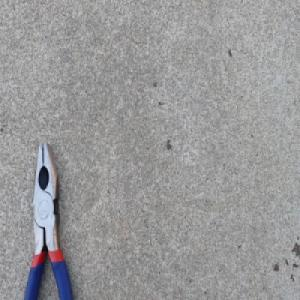Pliers: (23, 137, 73, 300)
